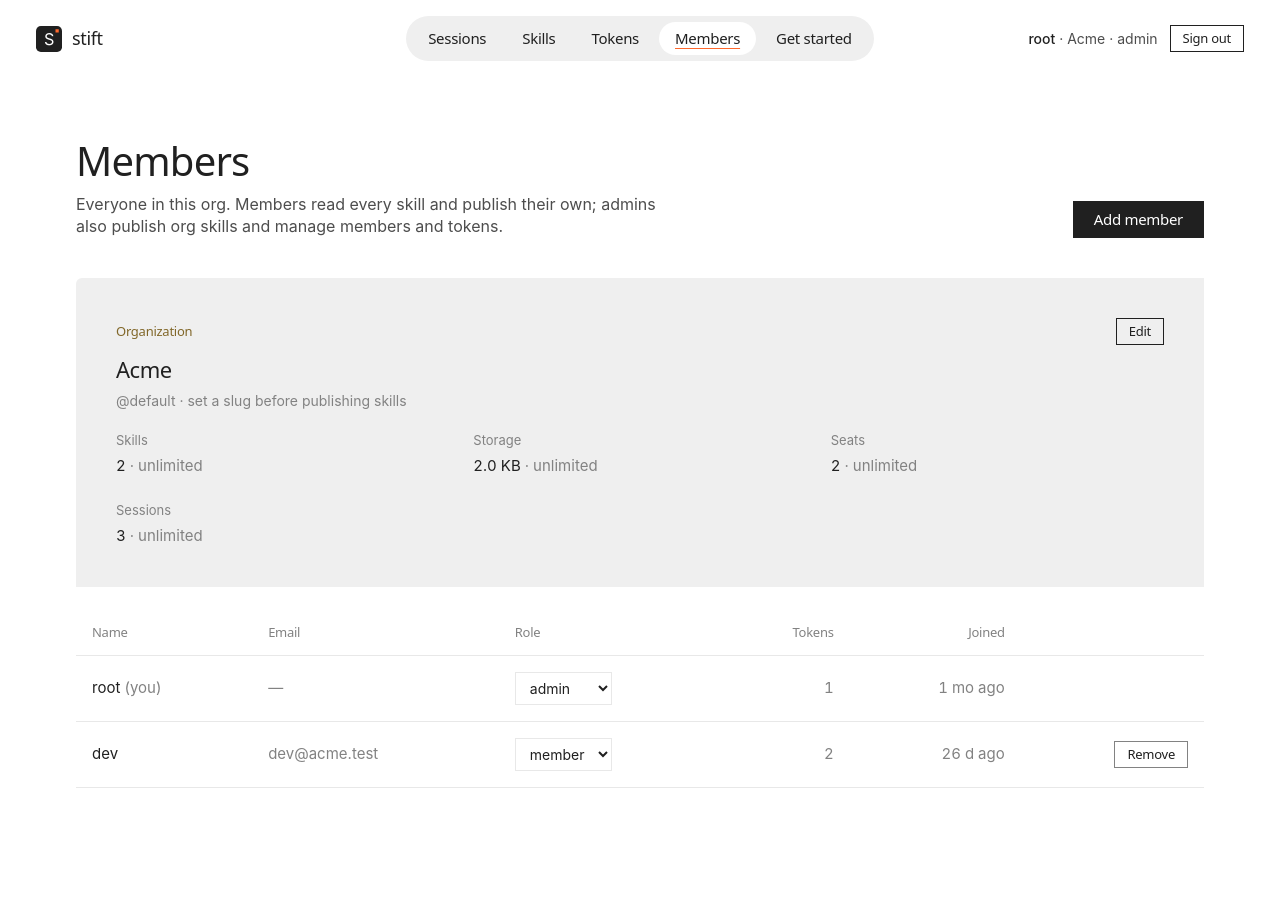
Test: remove confirms inline and names the tokens that go with the member
Expected: the text "dev@acme.test" is shown, [252,721,499,787]
Click the button "Remove" at (1151, 754), box [1114,741,1188,768]
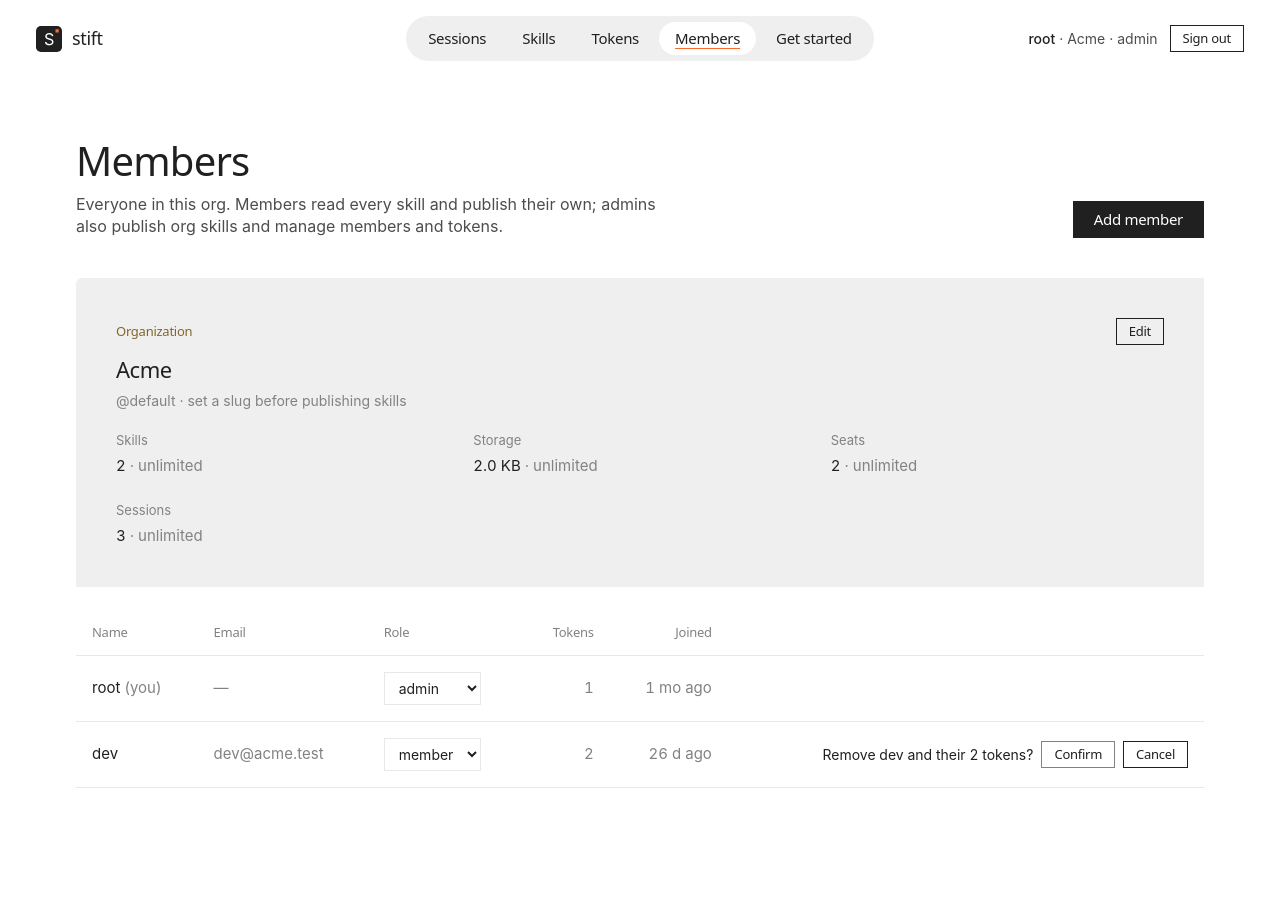
Expected: the text "dev" shows "Remove dev and their 2 tokens?", [76,721,1204,787]
Click the button "Confirm" at (1078, 754), box [1041,741,1115,768]
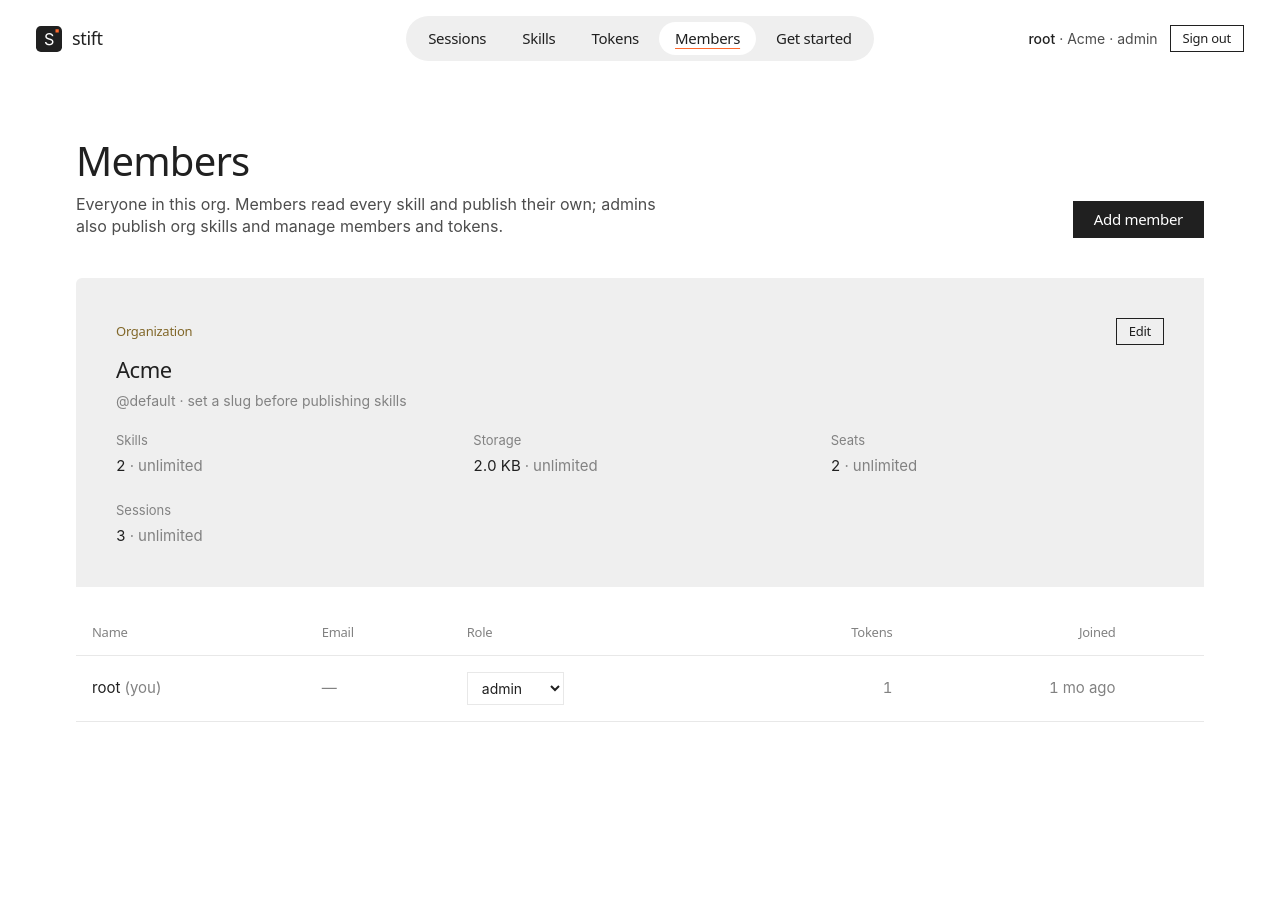
Expected: the text "dev@acme.test" is gone
